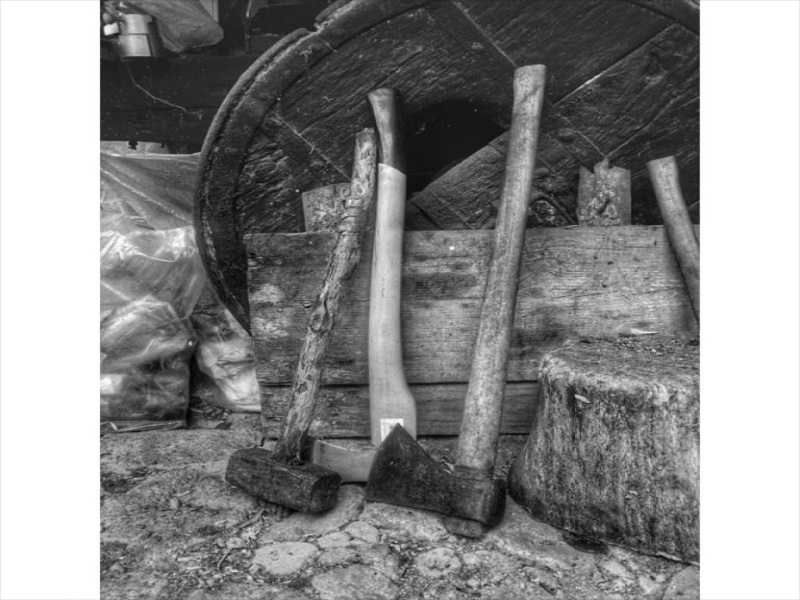axe: (362, 423, 524, 544), (311, 406, 440, 503)
